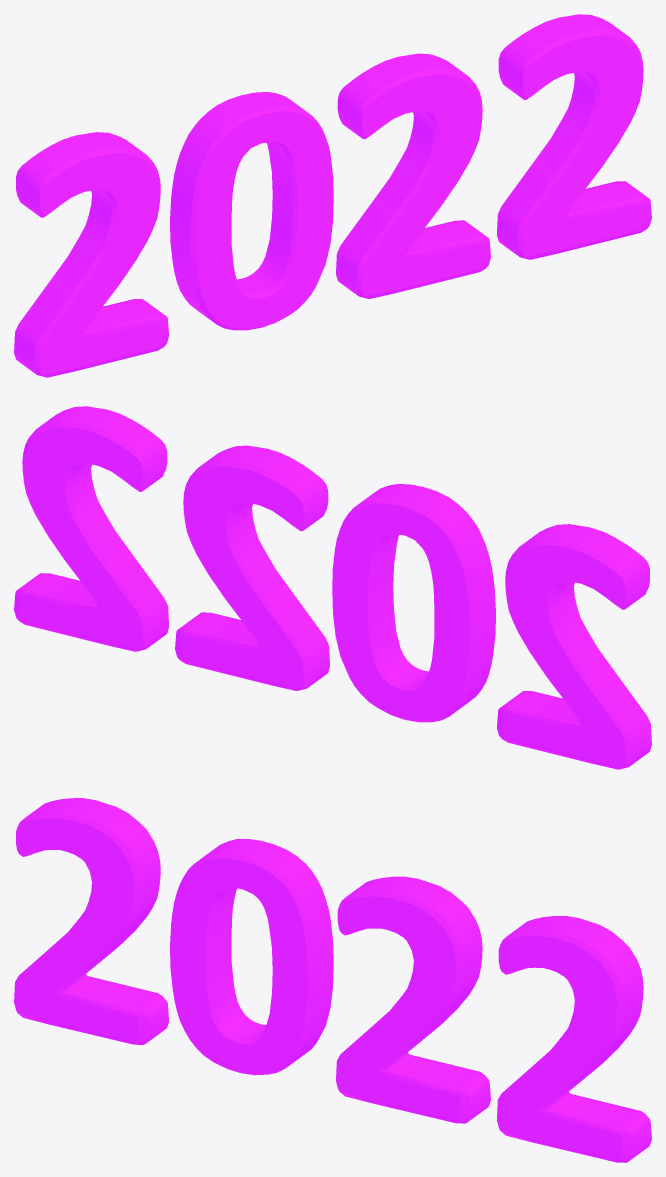
Rendered from TwnObj_2022Sign_A_01.fbx.
3 renders of one model, top to bottom at view 1: azimuth 30°, elevation 25°; view 2: azimuth 150°, elevation 25°; view 3: azimuth 330°, elevation 25°, orthographic.
Visible parts, largest first — view 1: 2022; view 2: 2022; view 3: 2022.
Part boxes in pixels (x1,y1,x2,y2): 2022: [14, 14, 651, 377]; 2022: [14, 406, 651, 769]; 2022: [14, 798, 651, 1162].
Bounding box in the file's own units: 29.28 × 9.87 × 2.
